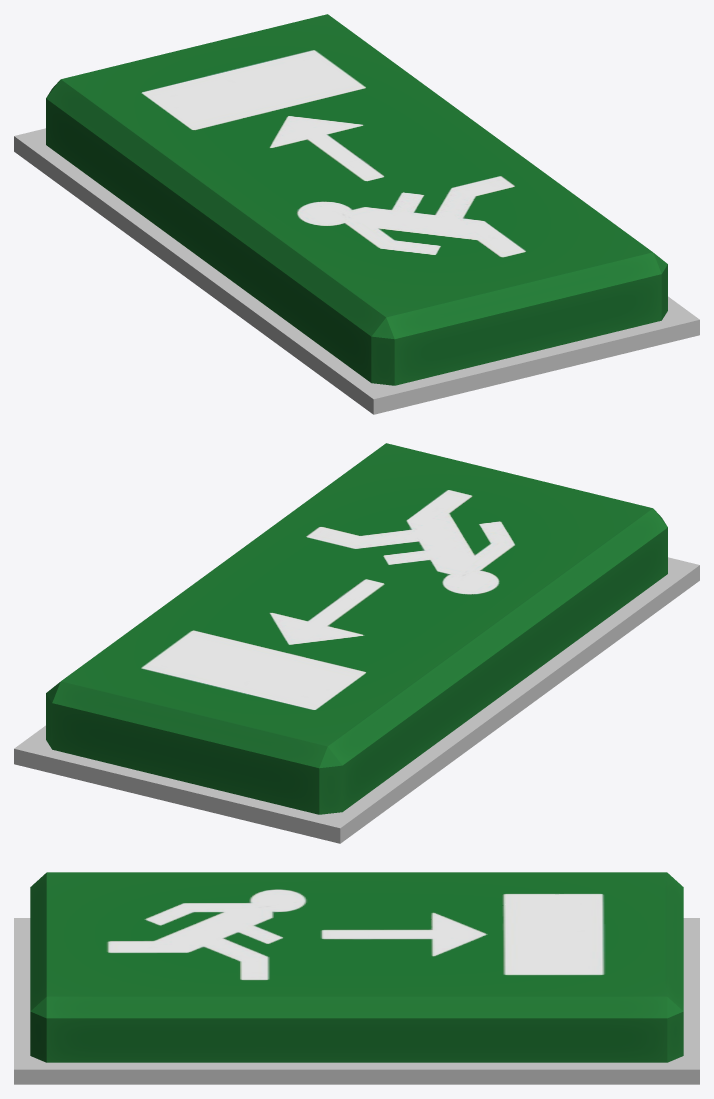
Rendered from ExitSign.fbx.
3 renders of one model, top to bottom at view 1: azimuth 30°, elevation 25°; view 2: azimuth 150°, elevation 25°; view 3: azimuth 270°, elevation 25°, orthographic. The views are drawn at different scales.
Parts seen in each view (by area): view 1: Sign, Base; view 2: Sign, Base; view 3: Sign, Base.
Boxes of the visible parts, x1,y1,x2,y2 form: Sign: (46,14,667,385); Base: (14,128,699,414); Sign: (46,443,667,814); Base: (14,557,699,843); Sign: (30,872,683,1062); Base: (14,918,699,1084).
Size of the model in its own units: 0.44 by 0.1 by 0.84.
